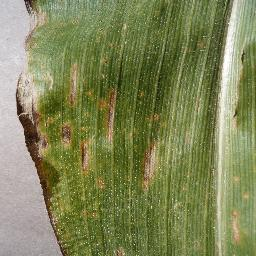Gray_Leaf_Spot: (30, 160, 69, 255), (18, 104, 52, 161), (138, 124, 161, 195), (13, 55, 41, 107), (229, 43, 244, 127), (95, 93, 115, 151), (13, 0, 49, 32), (65, 59, 80, 108), (228, 206, 244, 250), (77, 141, 89, 179), (82, 201, 102, 223), (47, 17, 80, 29), (142, 110, 163, 127), (24, 31, 37, 54), (191, 35, 208, 52), (62, 117, 70, 152), (43, 68, 54, 91), (193, 97, 204, 120), (92, 165, 102, 190), (100, 36, 115, 52), (179, 126, 192, 144), (121, 19, 142, 30), (101, 51, 111, 68), (115, 245, 127, 256), (88, 80, 94, 100), (197, 238, 204, 254), (244, 187, 251, 200), (230, 168, 239, 178), (138, 88, 146, 99), (181, 183, 188, 195), (166, 202, 179, 208), (123, 175, 130, 185), (207, 188, 211, 205)
